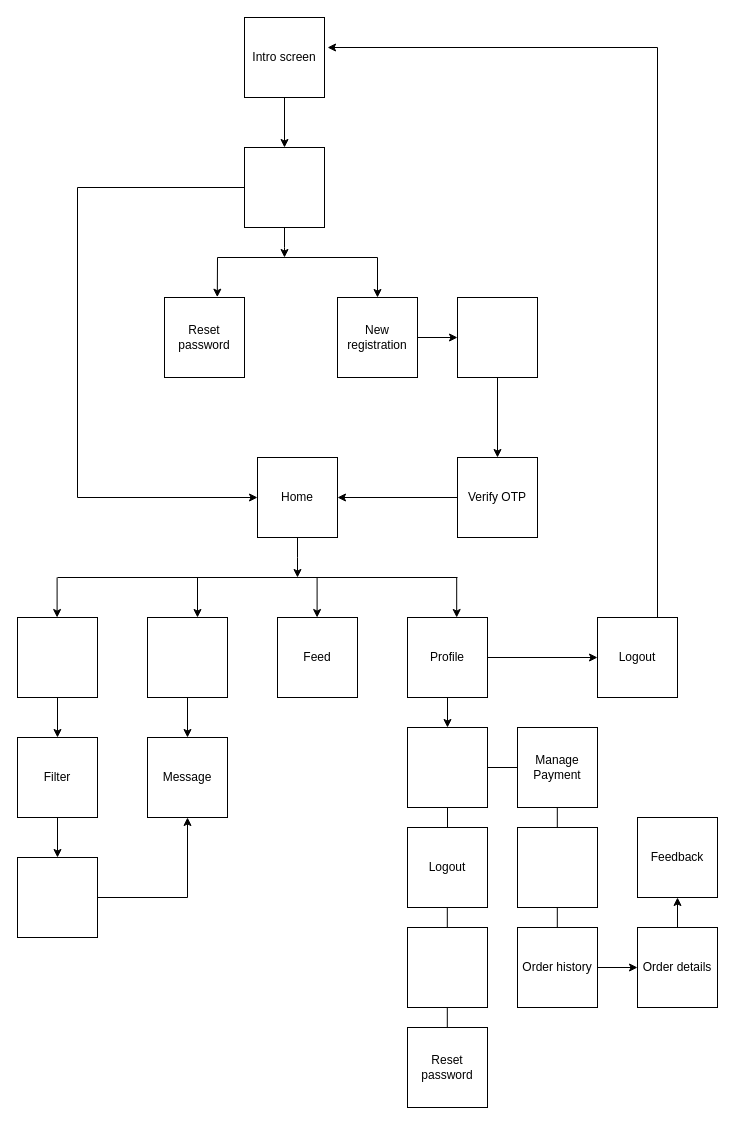
Image size: 735x1125. Some labels were removed from this diagram. The shapes that lost their labels are listed below. From the top down, each one's box as (x1, y1, x2, y2) in pixels, then its label:
(244, 146, 324, 228): Login
(456, 296, 538, 378): Registration
(16, 616, 98, 698): Search
(146, 616, 228, 698): Chat
(406, 726, 488, 808): Edit profile
(516, 826, 598, 908): Schedule
(16, 856, 98, 938): Chef profile
(406, 926, 488, 1008): Customer service
